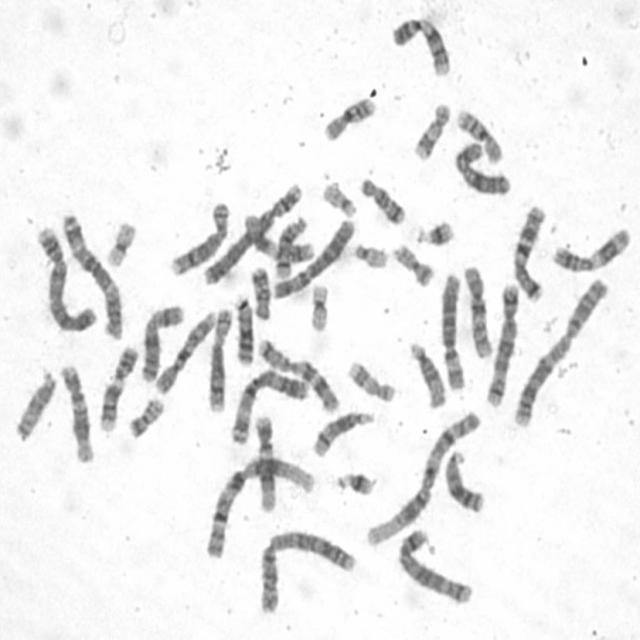A1: (359, 404, 484, 549), (200, 450, 317, 560)
A2: (508, 271, 611, 428), (252, 521, 359, 616)
A3: (56, 206, 126, 340), (225, 363, 311, 446)
B4: (197, 176, 306, 286), (31, 218, 100, 334)
B5: (392, 521, 474, 606), (480, 275, 521, 408)
C10: (149, 303, 220, 396), (458, 257, 496, 360)
C11: (547, 220, 633, 274), (239, 212, 315, 265)
C12: (56, 358, 96, 464), (249, 408, 279, 513)
C6: (267, 211, 358, 301), (436, 265, 468, 391)
C7: (252, 332, 341, 415), (507, 198, 549, 304)
C8: (164, 194, 232, 278), (203, 301, 234, 414)
C9: (386, 8, 454, 78), (92, 338, 140, 434)
D13: (439, 442, 486, 514), (229, 288, 256, 367)
D14: (307, 404, 376, 458), (268, 208, 310, 280)
D15: (9, 363, 58, 442), (404, 334, 449, 409)
E16: (452, 102, 506, 164), (318, 89, 378, 142)
E17: (408, 96, 452, 162), (342, 353, 398, 404)
E18: (354, 169, 407, 226), (246, 260, 274, 321)
F19: (99, 213, 138, 268), (304, 276, 332, 333)
F20: (387, 236, 436, 288), (123, 390, 167, 440)
G21: (409, 212, 456, 248), (330, 463, 377, 497)
G22: (316, 174, 360, 218), (348, 235, 389, 270)
X: (136, 296, 187, 385), (448, 134, 514, 198)
